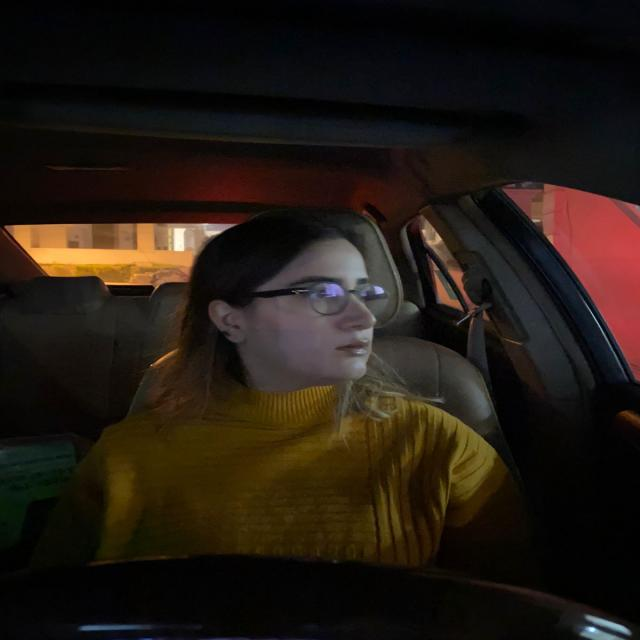LeftRight: (188, 202, 396, 394)
